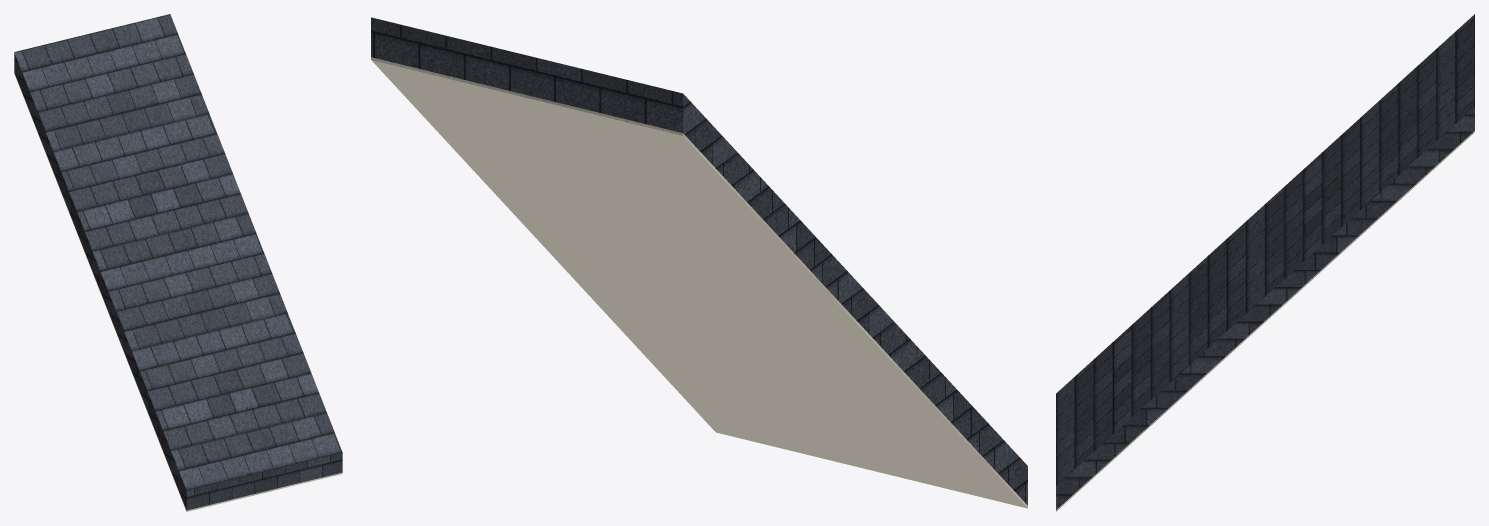
File: roof_slope_end_l.glb
3 renders of one model, left to right at view 1: azimuth 30°, elevation 25°; view 2: azimuth 150°, elevation 25°; view 3: azimuth 270°, elevation 25°, orthographic. The views are drawn at different scales.
Parts seen in each view (by area): view 1: roof_slope_end_l_shingle, roof_slope_end_l_plaster; view 2: roof_slope_end_l_plaster, roof_slope_end_l_shingle; view 3: roof_slope_end_l_shingle, roof_slope_end_l_plaster.
Boxes of the visible parts, left/top/right/bottom form: roof_slope_end_l_shingle: left=14, top=14, right=342, bottom=510; roof_slope_end_l_plaster: left=14, top=73, right=342, bottom=511; roof_slope_end_l_plaster: left=371, top=57, right=1027, bottom=508; roof_slope_end_l_shingle: left=371, top=17, right=1027, bottom=505; roof_slope_end_l_shingle: left=1056, top=14, right=1474, bottom=509; roof_slope_end_l_plaster: left=1056, top=131, right=1474, bottom=511.
Bounding box in the file's own units: 2.3 × 4.7 × 4.4.
2 materials, 2 textured.
